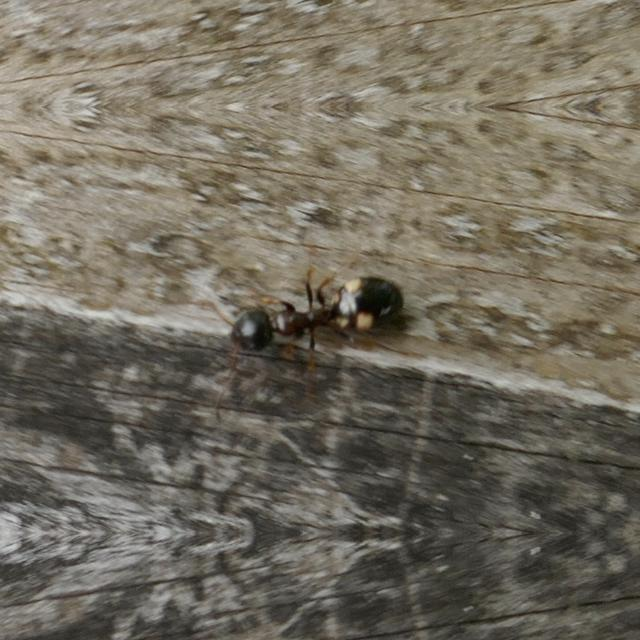Dolichoderus: (188, 254, 432, 368)
